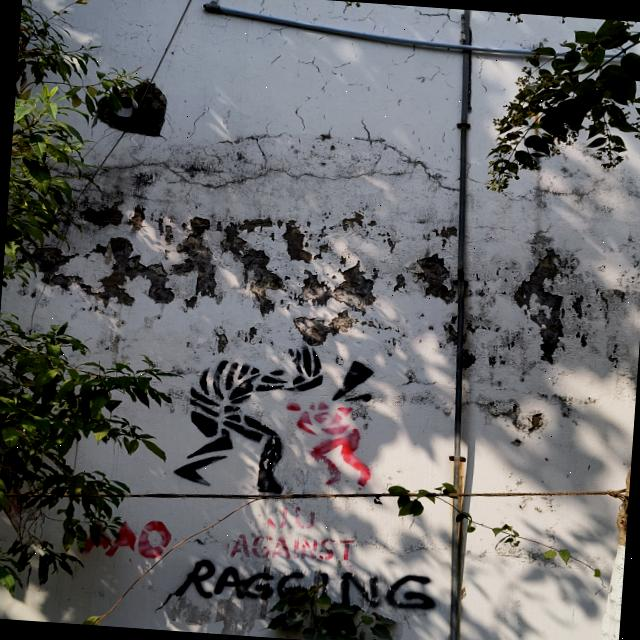Crack: (174, 0, 594, 160), (66, 107, 472, 194)
Graffiti: (164, 505, 455, 616), (172, 343, 330, 497), (282, 357, 382, 496), (67, 514, 184, 560)
Scaling: (33, 216, 221, 309), (501, 248, 624, 364), (216, 218, 283, 316), (290, 256, 377, 313), (408, 252, 457, 303), (276, 219, 330, 263), (294, 309, 354, 346), (461, 312, 491, 373), (492, 403, 543, 433), (80, 201, 122, 225), (341, 212, 363, 231), (214, 327, 228, 353), (435, 226, 457, 239)
pollution -moisture induced blackening: (32, 216, 217, 308), (220, 218, 283, 315), (513, 249, 565, 363), (293, 261, 376, 313), (409, 253, 456, 303), (293, 311, 352, 346), (282, 220, 326, 262), (79, 199, 123, 227), (341, 212, 363, 231), (570, 295, 583, 318), (434, 226, 456, 239), (461, 349, 475, 368)
